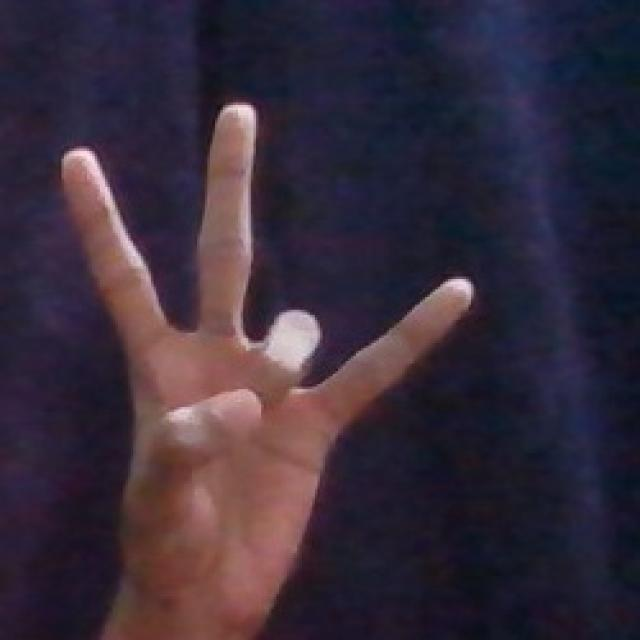Numeric-7: (48, 87, 480, 603)
